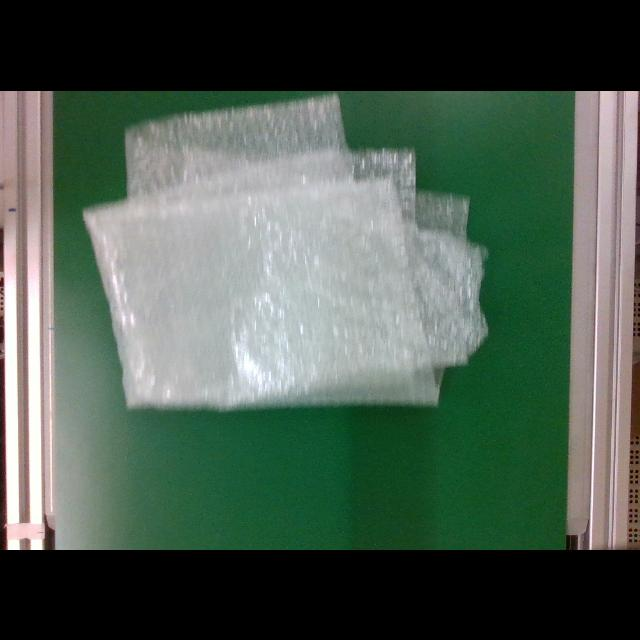scrap_plastic: (83, 92, 490, 424)
